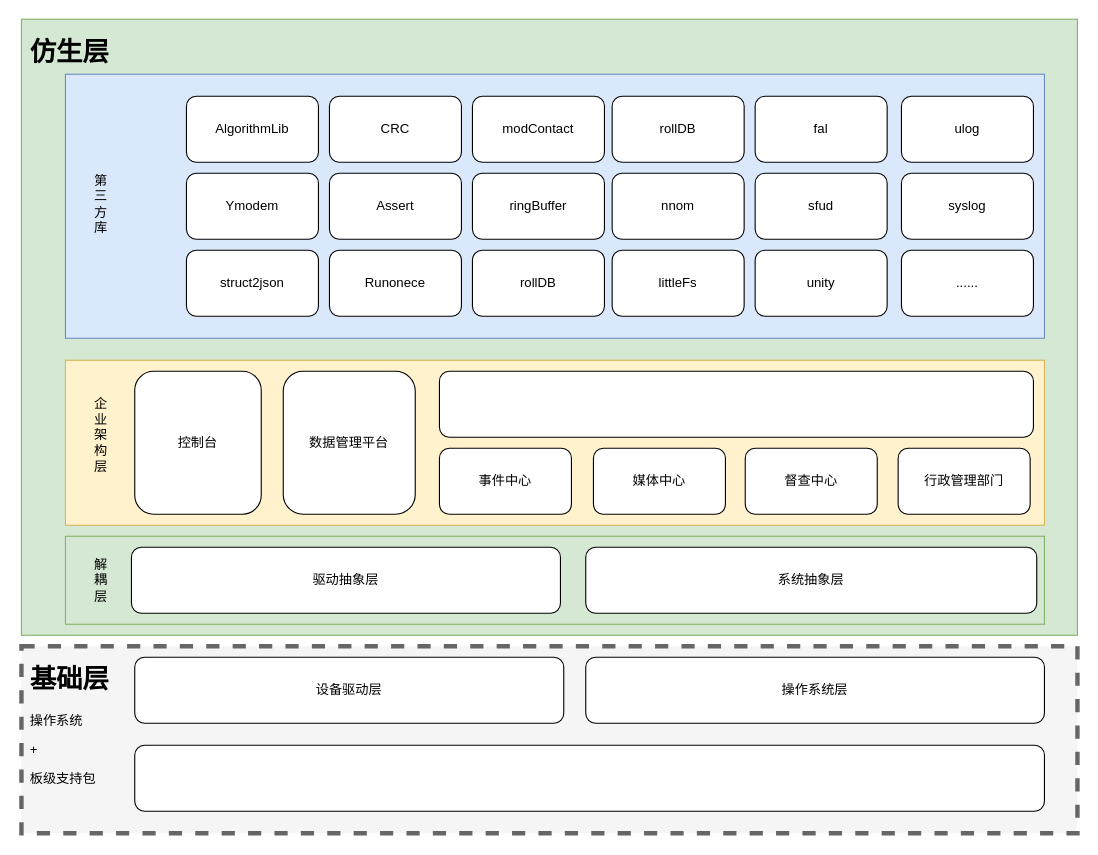
This 1098x855 diagram has some shape labels left out. The centre of each missing label's shape, as x and y in pixels:
"决策层" goes at [735,403].
"硬件设备" goes at [589,777].
